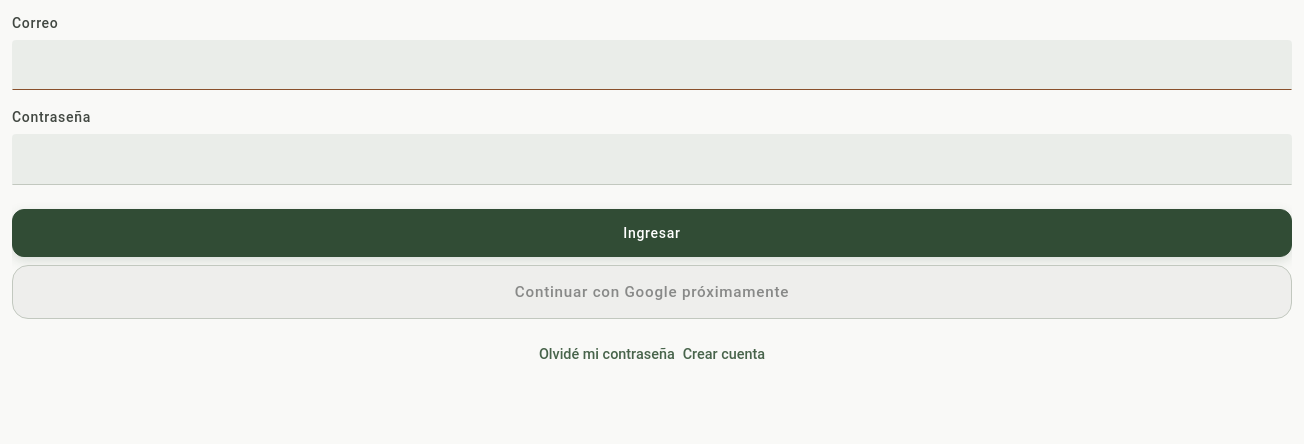
Test: LoginForm › shows generic temporary-unavailability feedback without claiming a limit was reached
This screenshot has width=1304, height=444.
Type "tuli@example.com" into the field labelled "Correo" at (652, 65), box [12,40,1292,90]
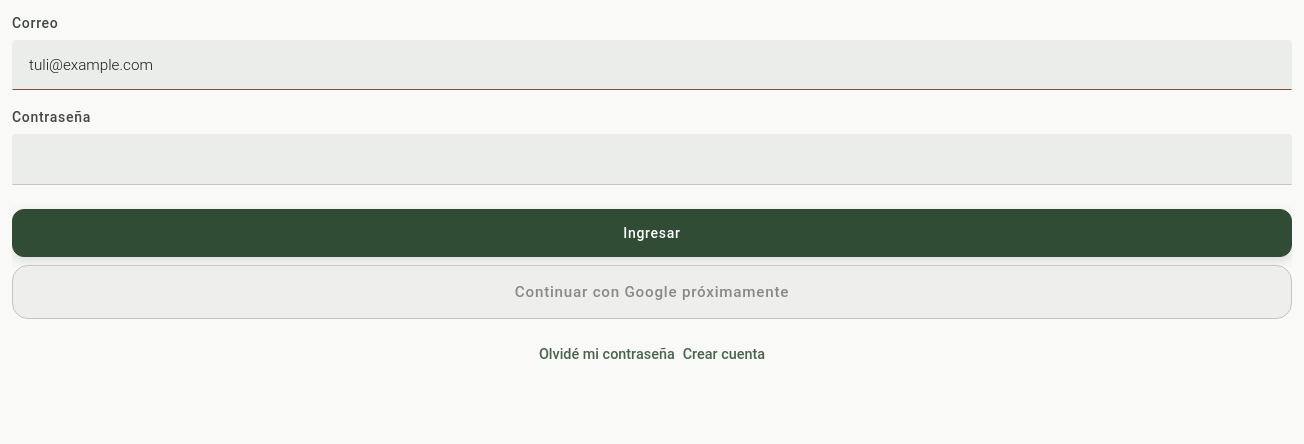
Type "secret123" into the password field labelled "Contraseña" at (652, 160), box [12,134,1292,185]
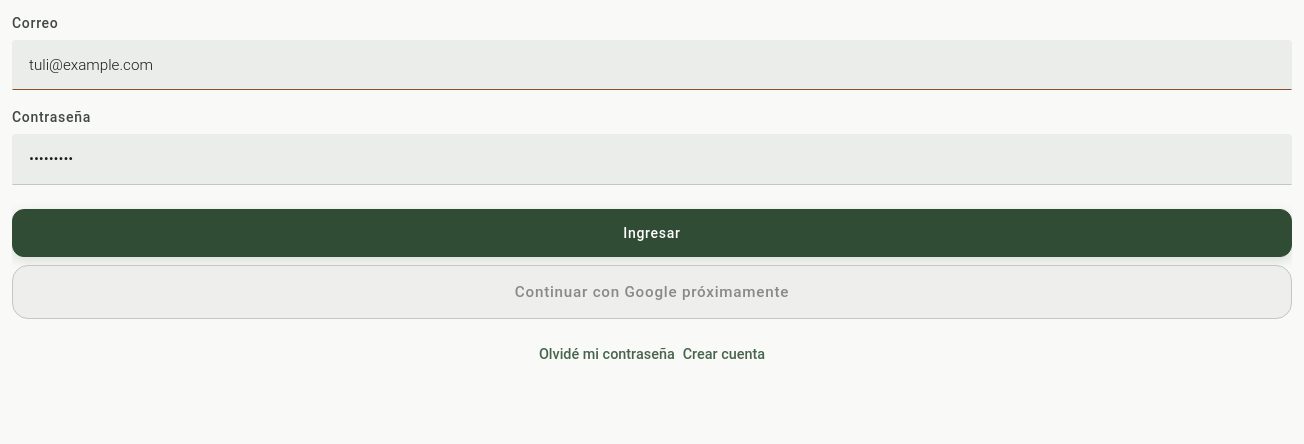
Click the button "Ingresar" at (652, 233), box [12,209,1292,257]
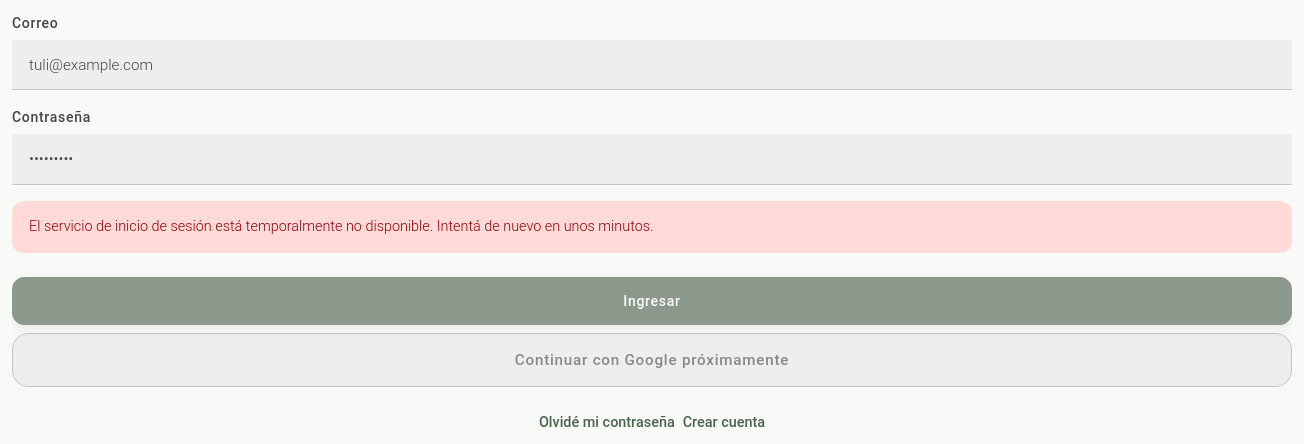
Now the text "El servicio de inicio de sesión está temporalmente no disponible. Intentá de nuevo en unos minutos." is shown, box [29,218,653,235]
Now the button "Ingresar" is disabled, box [12,277,1292,326]
Now the password field labelled "Contraseña" is disabled, box [12,134,1292,185]
